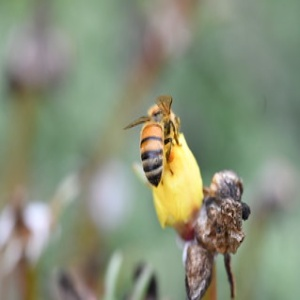bee: (124, 92, 183, 190)
